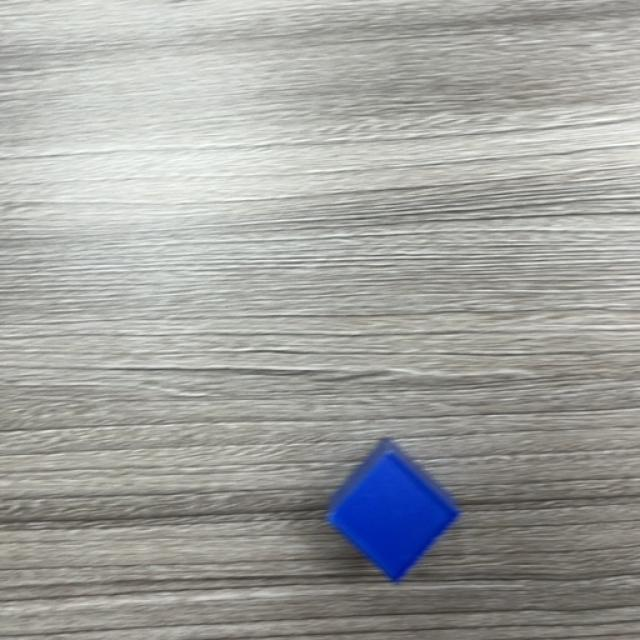Azul: (326, 438, 461, 585)
